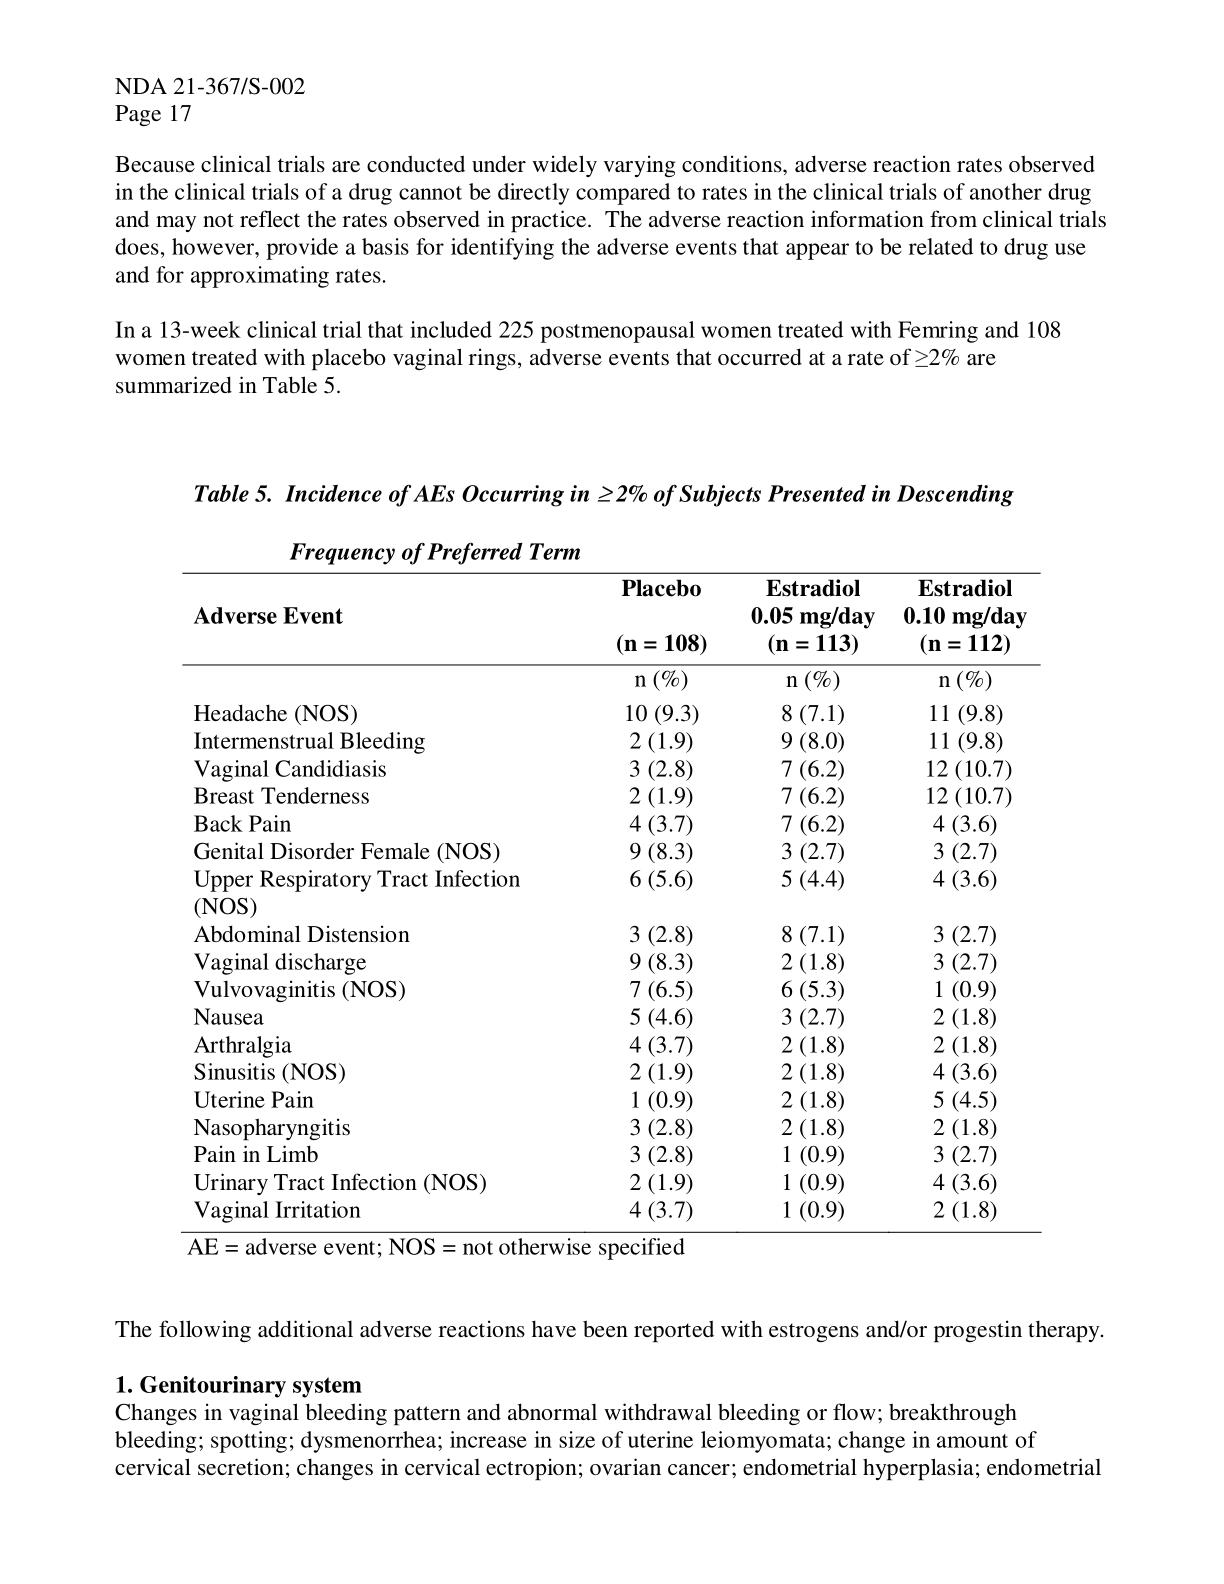partial_lined: (179, 572, 1043, 1236)
